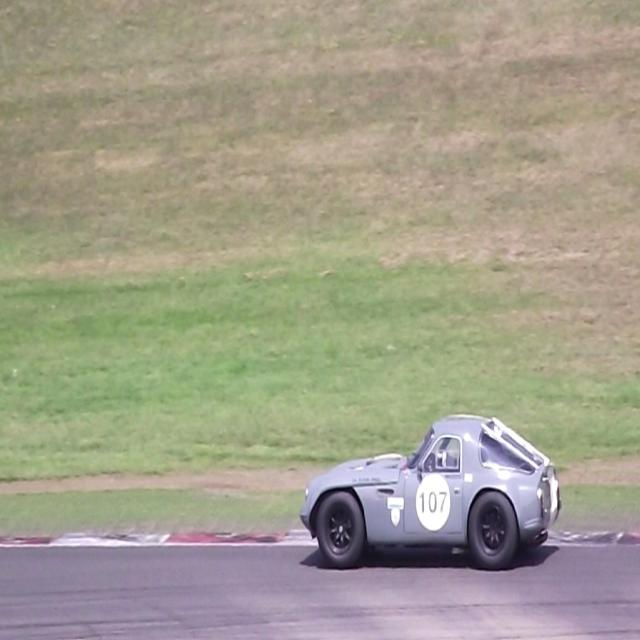car: (298, 411, 560, 569)
